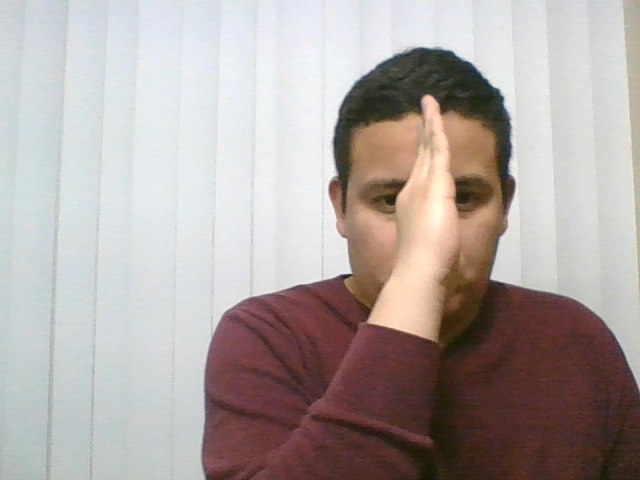God: (315, 77, 542, 343)
